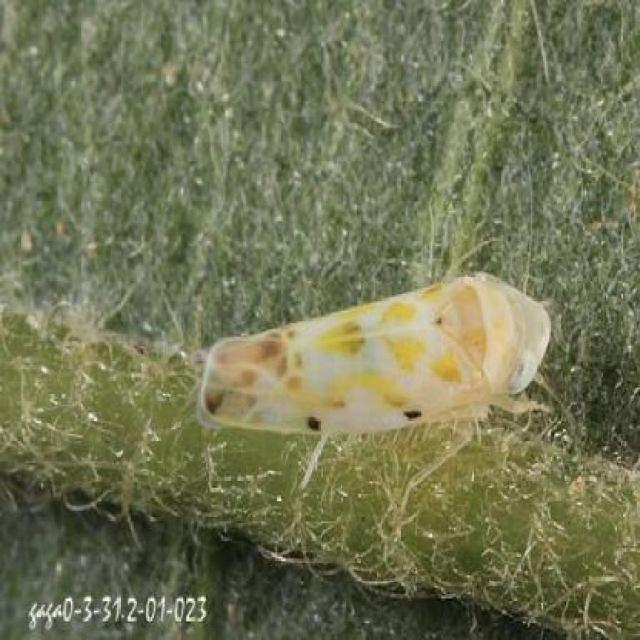green-leafhopper: (210, 281, 536, 437)
